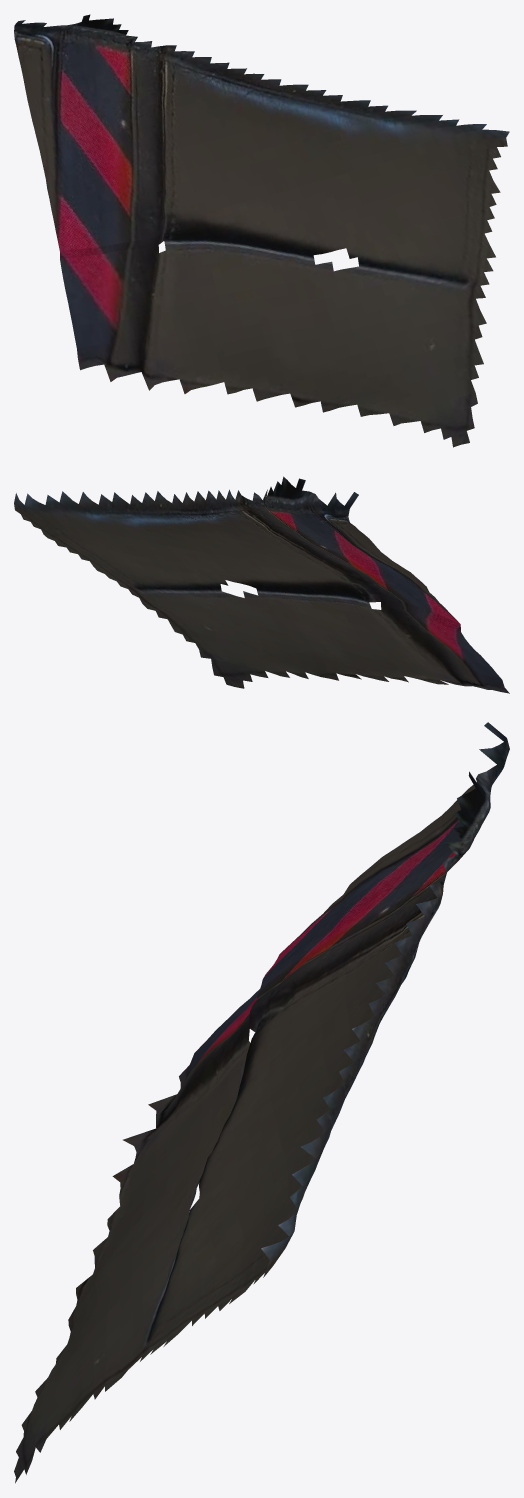
File: observed-surface.glb
3 views of the same model, one above another, from view 1: azimuth 30°, elevation 25°; view 2: azimuth 150°, elevation 25°; view 3: azimuth 270°, elevation 25° (orthographic). The views are drawn at different scales.
Parts seen in each view (by area): view 1: geometry_0; view 2: geometry_0; view 3: geometry_0.
Boxes of the visible parts, x1,y1,x2,y2 form: geometry_0: (14, 14, 509, 447); geometry_0: (14, 476, 509, 693); geometry_0: (14, 722, 509, 1483).
Bounding box in the file's own units: 0.6346 × 0.498 × 0.4044.
1 material, 1 textured.
